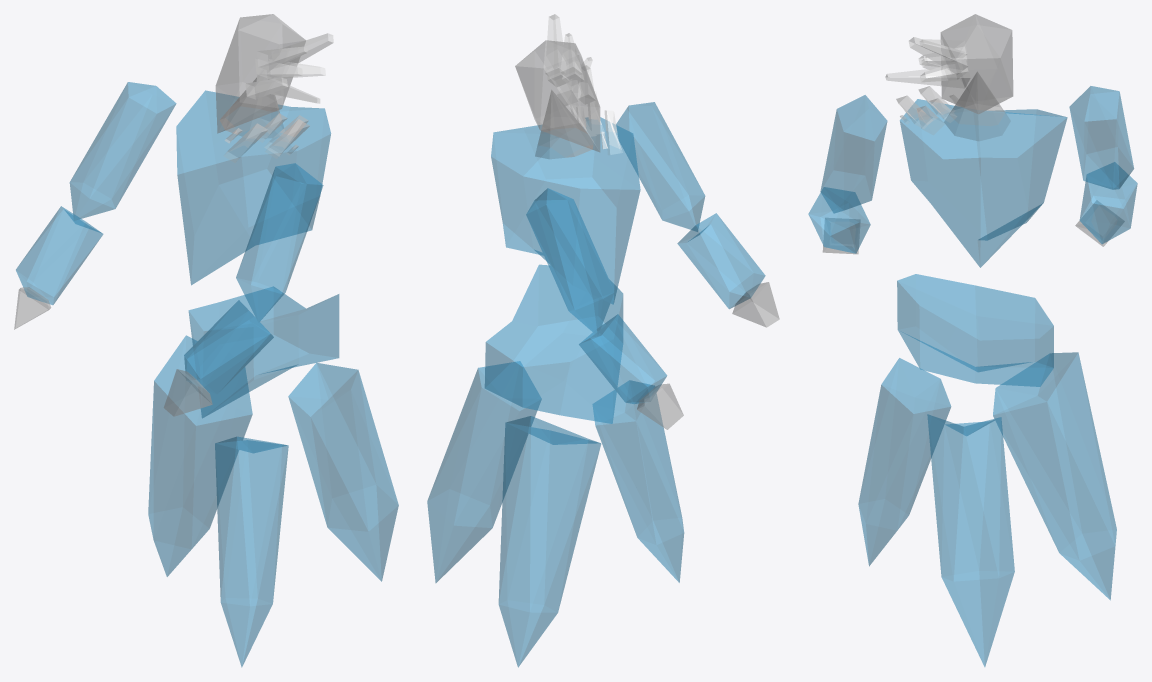
Rendered from ghostDistanceAttack5.obj.
The picture shows the model from 3 angles, left to right: view 1: azimuth 30°, elevation 25°; view 2: azimuth 150°, elevation 25°; view 3: azimuth 270°, elevation 25°; orthographic projection. The views are drawn at different scales.
Visible parts, largest first — view 1: Cube.001_Cube.007, Icosphere.020, Icosphere.019, Cube_Cube.007, Icosphere.018, Icosphere.007_Icosphere.006, Icosphere.005_Icosphere.007, Icosphere.003_Icosphere.007, Icosphere.008_Icosphere.006, Icosphere.006_Icosphere.006, Cone_Cone.007, Cube.002_Cube.007 (+7 smaller); view 2: Cube.001_Cube.007, Icosphere.020, Cube_Cube.007, Icosphere.019, Icosphere.018, Icosphere.007_Icosphere.006, Icosphere.003_Icosphere.007, Icosphere.005_Icosphere.007, Icosphere.006_Icosphere.006, Icosphere.008_Icosphere.006, Cone_Cone.007, Cube.002_Cube.007 (+4 smaller); view 3: Cube.001_Cube.007, Icosphere.020, Icosphere.019, Cube_Cube.007, Icosphere.018, Icosphere.003_Icosphere.007, Icosphere.005_Icosphere.007, Icosphere.007_Icosphere.006, Icosphere.008_Icosphere.006, Icosphere.006_Icosphere.006, Cone_Cone.007, Cube.002_Cube.007 (+5 smaller).
Boxes of the visible parts, left/top/right/bottom form: Cube.001_Cube.007: left=176, top=90, right=330, bottom=285; Icosphere.020: left=148, top=335, right=252, bottom=576; Icosphere.019: left=288, top=363, right=398, bottom=581; Cube_Cube.007: left=188, top=286, right=339, bottom=418; Icosphere.018: left=215, top=436, right=288, bottom=667; Icosphere.007_Icosphere.006: left=69, top=82, right=176, bottom=220; Icosphere.005_Icosphere.007: left=236, top=163, right=323, bottom=322; Icosphere.003_Icosphere.007: left=215, top=14, right=305, bottom=133; Icosphere.008_Icosphere.006: left=16, top=206, right=103, bottom=304; Icosphere.006_Icosphere.006: left=184, top=300, right=273, bottom=393; Cone_Cone.007: left=220, top=78, right=283, bottom=137; Cube.002_Cube.007: left=164, top=369, right=212, bottom=416; Cube.001_Cube.007: left=491, top=117, right=640, bottom=304; Icosphere.020: left=498, top=416, right=600, bottom=667; Cube_Cube.007: left=484, top=264, right=623, bottom=423; Icosphere.019: left=427, top=361, right=541, bottom=582; Icosphere.018: left=593, top=380, right=684, bottom=582; Icosphere.007_Icosphere.006: left=526, top=188, right=614, bottom=335; Icosphere.003_Icosphere.007: left=515, top=40, right=600, bottom=152; Icosphere.005_Icosphere.007: left=616, top=102, right=705, bottom=231; Icosphere.006_Icosphere.006: left=677, top=213, right=765, bottom=308; Icosphere.008_Icosphere.006: left=579, top=314, right=666, bottom=403; Cone_Cone.007: left=535, top=90, right=592, bottom=158; Cube.002_Cube.007: left=732, top=282, right=779, bottom=327; Cube.001_Cube.007: left=900, top=99, right=1067, bottom=267; Icosphere.020: left=993, top=352, right=1116, bottom=600; Icosphere.019: left=927, top=414, right=1014, bottom=666; Cube_Cube.007: left=897, top=274, right=1053, bottom=386; Icosphere.018: left=858, top=358, right=951, bottom=566; Icosphere.003_Icosphere.007: left=940, top=14, right=1013, bottom=114; Icosphere.005_Icosphere.007: left=820, top=95, right=887, bottom=213; Icosphere.007_Icosphere.006: left=1069, top=86, right=1133, bottom=189; Icosphere.008_Icosphere.006: left=1079, top=162, right=1137, bottom=243; Icosphere.006_Icosphere.006: left=808, top=187, right=870, bottom=253; Cone_Cone.007: left=944, top=72, right=1010, bottom=140; Cube.002_Cube.007: left=822, top=218, right=860, bottom=254.
Size of the model in its own units: 26.02 by 47.5 by 23.87.
